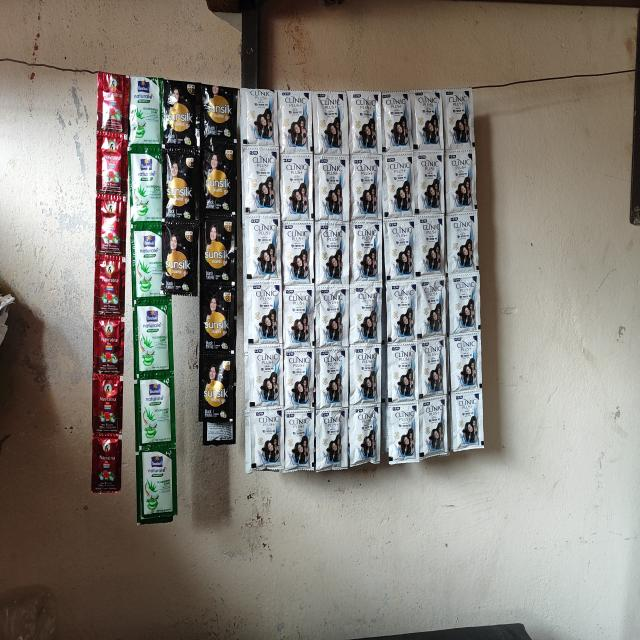non-ubl: (136, 445, 178, 523), (161, 222, 200, 298), (161, 147, 199, 221), (162, 79, 200, 148), (130, 223, 165, 296), (200, 219, 234, 293), (136, 297, 169, 373), (135, 378, 174, 442), (130, 146, 162, 223), (200, 356, 233, 426), (200, 357, 232, 422), (130, 82, 162, 145), (96, 132, 128, 195), (206, 85, 236, 150), (91, 434, 122, 494), (92, 374, 123, 434), (97, 195, 127, 257), (92, 316, 124, 374), (201, 149, 231, 210), (96, 74, 126, 132), (203, 290, 234, 346), (97, 256, 126, 313)
ubl: (241, 148, 277, 217), (386, 397, 422, 464), (244, 217, 280, 282), (246, 343, 281, 409), (278, 90, 313, 156), (248, 406, 282, 473), (279, 154, 313, 220), (242, 86, 276, 149), (313, 92, 345, 158), (348, 90, 380, 156), (348, 402, 379, 470), (313, 408, 345, 472), (279, 222, 312, 284), (380, 90, 411, 155), (451, 393, 486, 450), (383, 152, 414, 216), (315, 155, 345, 221), (451, 390, 482, 453), (384, 219, 416, 280), (283, 408, 313, 473), (444, 151, 474, 216), (349, 155, 379, 220), (246, 286, 280, 343), (418, 398, 448, 462), (410, 89, 440, 153), (348, 342, 379, 403), (315, 346, 346, 406), (350, 220, 381, 280), (446, 86, 475, 150), (418, 269, 446, 335), (385, 280, 416, 339), (348, 289, 381, 344), (386, 342, 416, 402), (450, 331, 480, 390), (283, 347, 313, 405), (415, 214, 444, 274), (416, 334, 444, 396), (318, 225, 347, 284), (448, 276, 478, 333), (314, 289, 344, 346), (412, 151, 439, 213), (282, 286, 312, 340), (447, 215, 474, 273), (417, 402, 442, 459)
